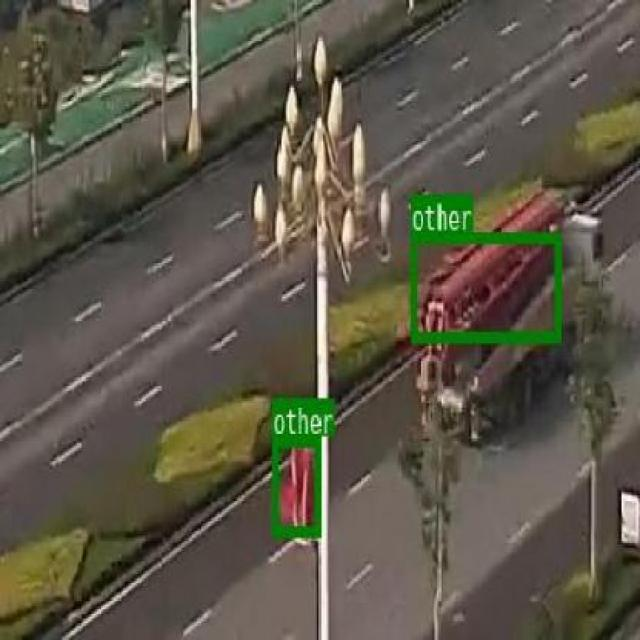other: (411, 232, 560, 340), (272, 436, 320, 536)
